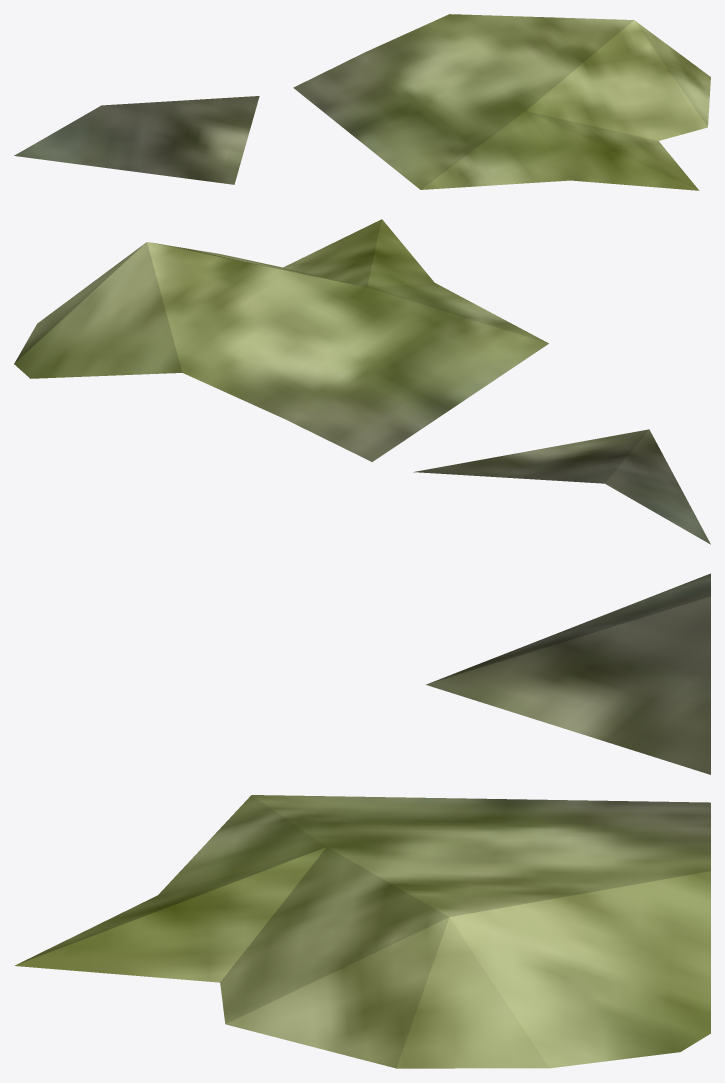
3 renders of one model, top to bottom at view 1: azimuth 30°, elevation 25°; view 2: azimuth 150°, elevation 25°; view 3: azimuth 270°, elevation 25°, orthographic. The views are drawn at different scales.
Size of the model in its own units: 1.52 by 0.145 by 0.9026.
1 material, 1 textured.
